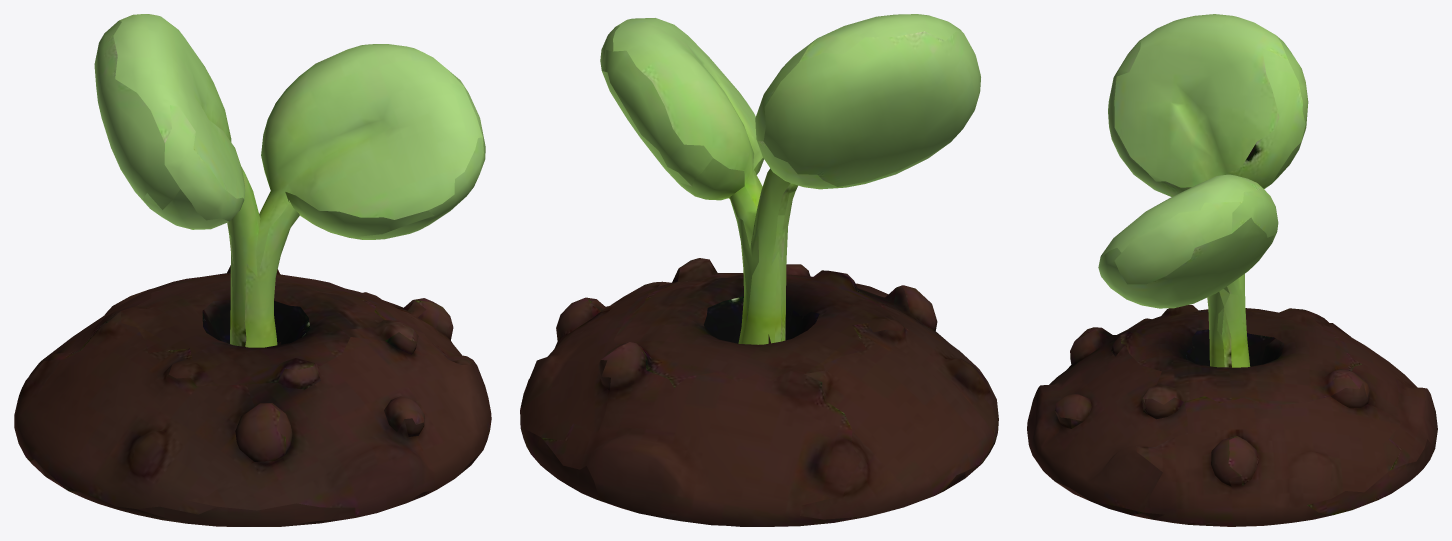
File: sprout.glb
3 views of the same model, side by side, from view 1: azimuth 30°, elevation 25°; view 2: azimuth 150°, elevation 25°; view 3: azimuth 270°, elevation 25° (orthographic). The views are drawn at different scales.
Parts seen in each view (by area): view 1: sprout_s15; view 2: sprout_s15; view 3: sprout_s15.
Boxes of the visible parts, box(x1,y1,x2,y2) form: sprout_s15: box(14, 14, 491, 526); sprout_s15: box(520, 14, 998, 526); sprout_s15: box(1027, 14, 1437, 526).
Size of the model in its own units: 1 by 1 by 0.9921.
1 material, 1 textured.
